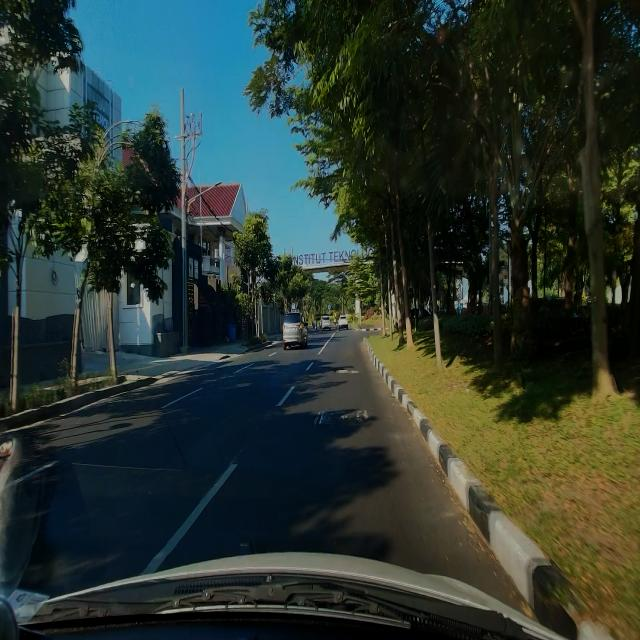car: (282, 312, 309, 351)
